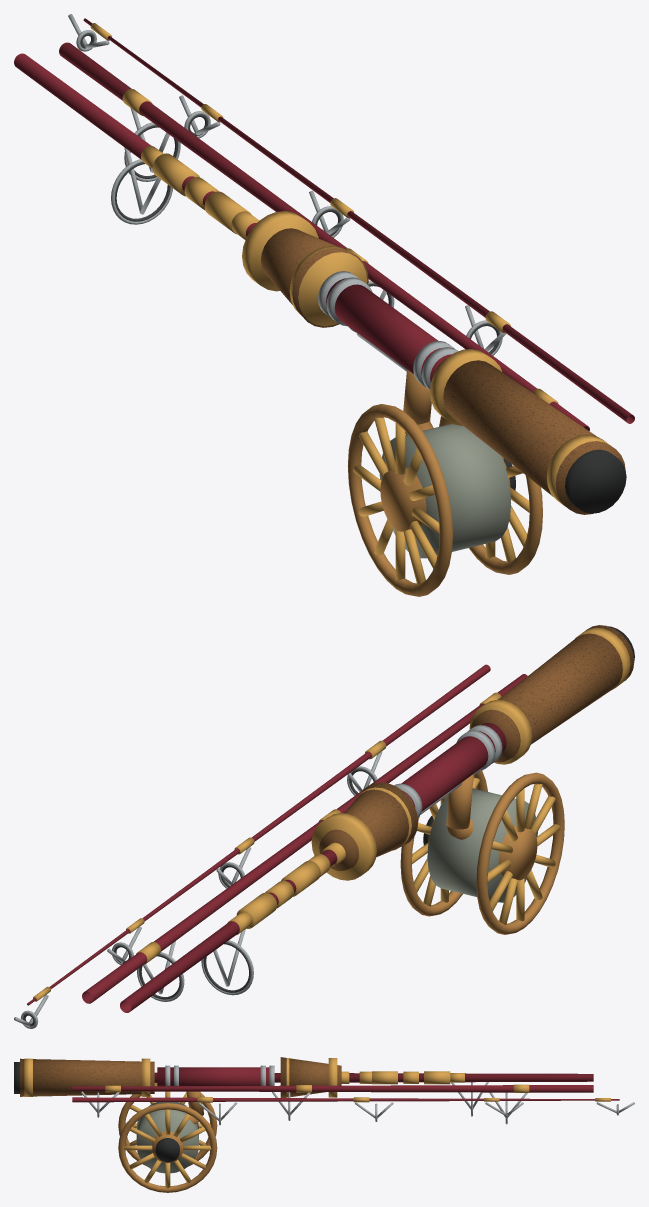
The model's file is heron_fly_folded.glb.
3 views of the same model, one above another, from view 1: azimuth 30°, elevation 25°; view 2: azimuth 150°, elevation 25°; view 3: azimuth 270°, elevation 25° (orthographic). The views are drawn at different scales.
Parts seen in each view (by area): view 1: Folded rod; view 2: Folded rod; view 3: Folded rod.
Boxes of the visible parts, box(x1,y1,x2,y2) form: Folded rod: box(14, 14, 634, 596); Folded rod: box(14, 625, 634, 1028); Folded rod: box(14, 1057, 634, 1192).
Size of the model in its own units: 0.1067 by 0.156 by 0.7147.
Materials: 8 (1 with a texture image).
